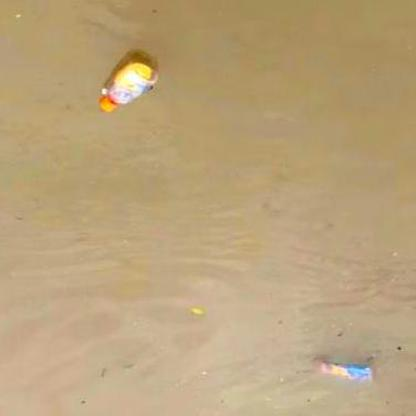plastic bottle: (98, 61, 158, 111)
